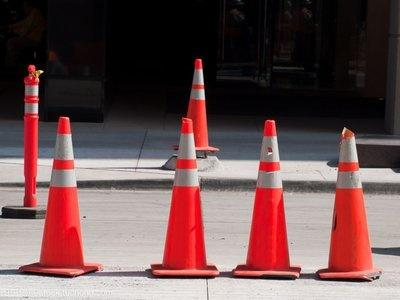cone_barrel: (26, 117, 95, 274), (151, 118, 215, 275), (234, 122, 298, 278), (315, 129, 381, 278), (178, 59, 214, 156)
